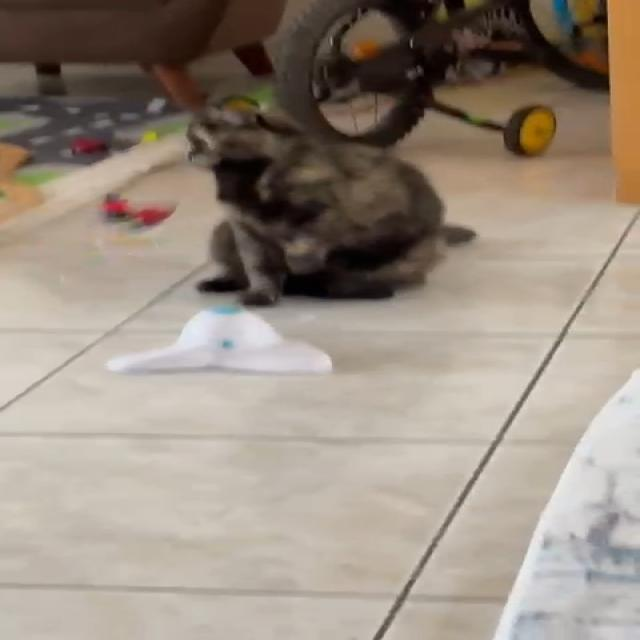authorized: (183, 91, 476, 306)
